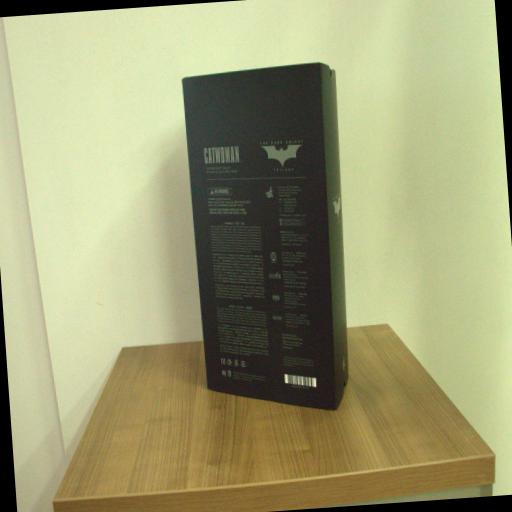catwoman: (182, 60, 360, 419)
